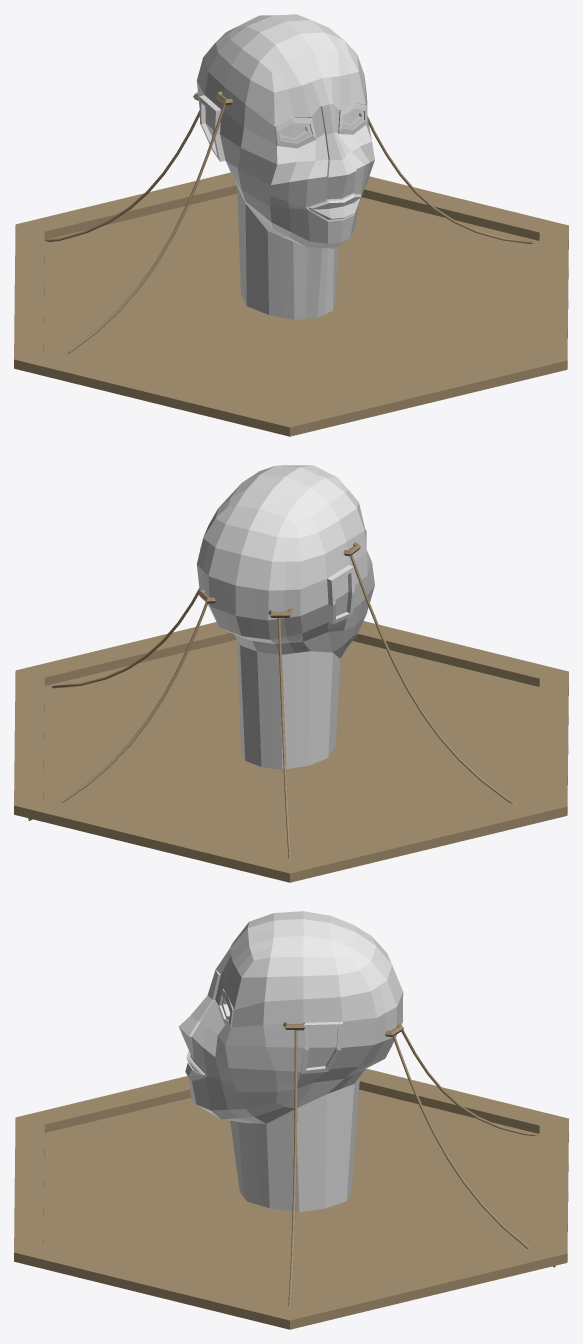
The model's file is adam.fbx.
The picture shows the model from 3 angles, top to bottom: view 1: azimuth 30°, elevation 25°; view 2: azimuth 150°, elevation 25°; view 3: azimuth 270°, elevation 25°; orthographic projection.
Visible parts, largest first — view 1: ADAM.002; view 2: ADAM.002; view 3: ADAM.002.
Part boxes in pixels (x1=…): ADAM.002: x1=14, y1=14, x2=568, y2=436; ADAM.002: x1=14, y1=465, x2=568, y2=882; ADAM.002: x1=14, y1=911, x2=568, y2=1329.
Bounding box in the file's own units: 446 × 219 × 388.
